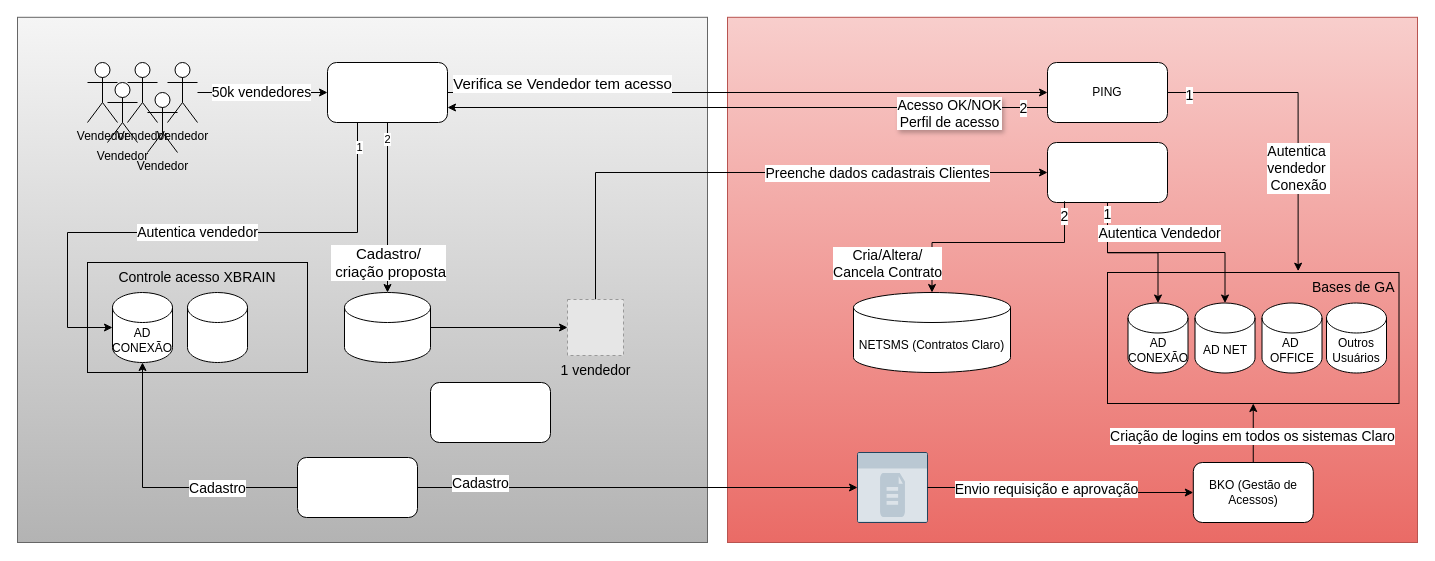
The diagram is 1435 pixels wide and 561 high, and some of its shapes have lost their labels. Grey dashed boxes stand in for pictures. Each missing label, with the centre of its shape:
Criação Usuário: the point at 892,487
Dados Clientes Claro: the point at 387,327
Outros: the point at 217,327
Processo Cadastro Usuários CONEXÃO: the point at 357,487
Processo Perfil Acesso CONEXÃO: the point at 490,412
Sistema Conexão: the point at 387,92
Sistema NETSales: the point at 1107,172
